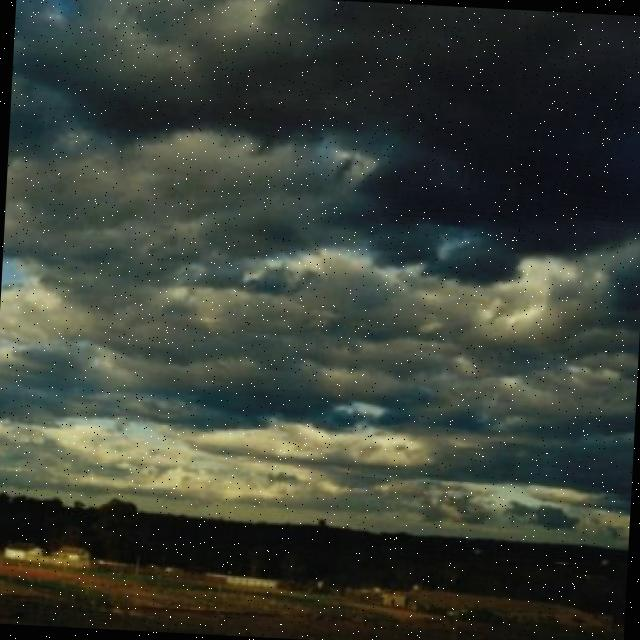St: (1, 1, 640, 512)
